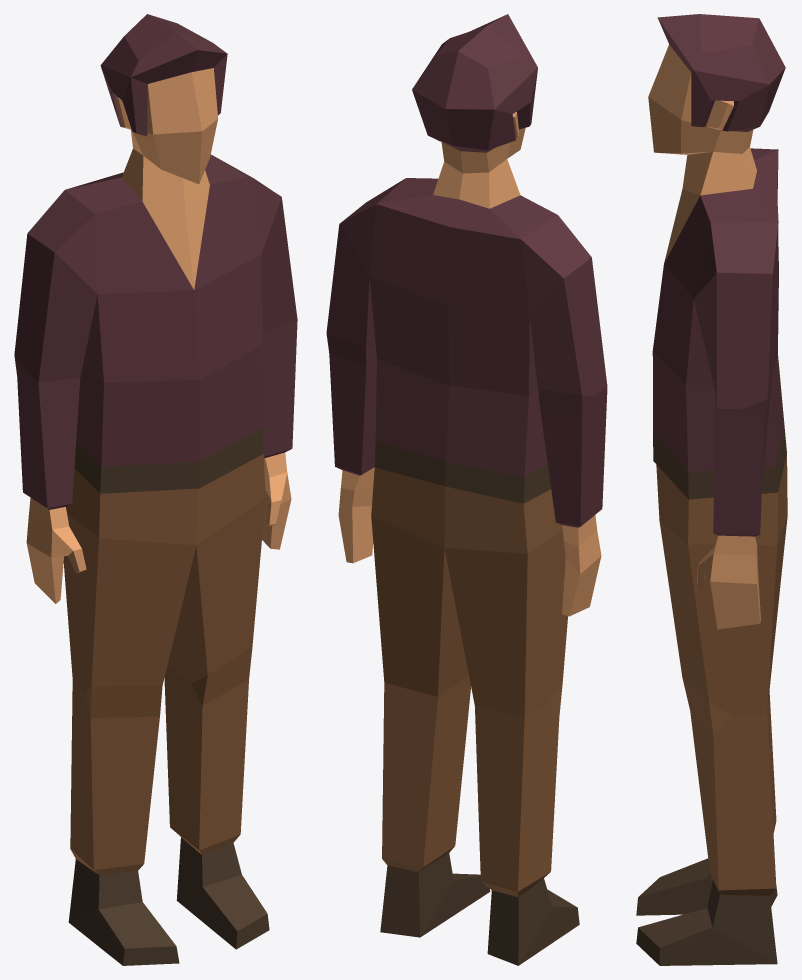
The model's file is man-lad.fbx.
3 renders of one model, left to right at view 1: azimuth 30°, elevation 25°; view 2: azimuth 150°, elevation 25°; view 3: azimuth 270°, elevation 25°, orthographic. The views are drawn at different scales.
Visible parts, largest first — view 1: man-lad; view 2: man-lad; view 3: man-lad.
Boxes of the visible parts, left/top/right/bottom form: man-lad: left=14, top=14, right=297, bottom=965; man-lad: left=326, top=14, right=607, bottom=965; man-lad: left=636, top=14, right=787, bottom=965.
Size of the model in its own units: 0.5495 by 1.83 by 0.2741.
